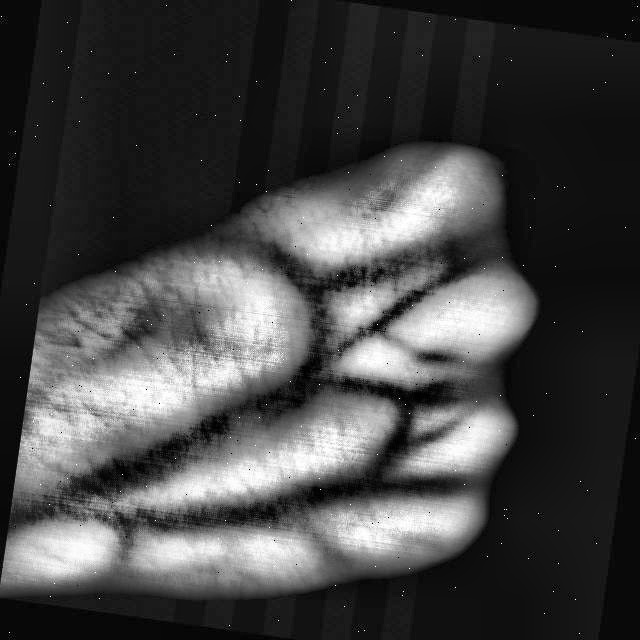Vein: (86, 361, 308, 499), (142, 476, 350, 537)
